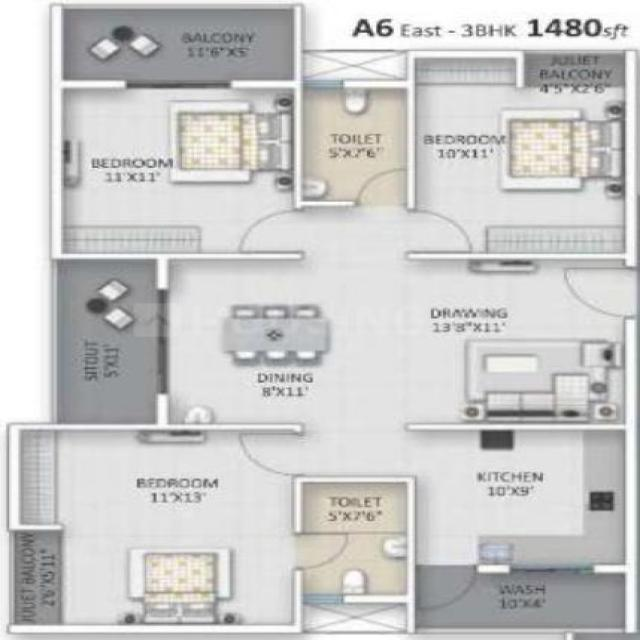Balcony-Sitout: (50, 4, 301, 87), (50, 255, 166, 430), (5, 528, 67, 635), (515, 51, 640, 90)
Bedroom: (10, 422, 304, 638), (400, 48, 634, 262), (50, 78, 293, 256)
Bedroom with Toilet: (5, 423, 413, 639)
Dining: (212, 301, 334, 371)
Kitchen: (409, 431, 636, 574)
Living: (404, 256, 636, 435)
Toilet: (292, 79, 417, 207), (292, 473, 413, 604)
Utility: (411, 565, 638, 636)
